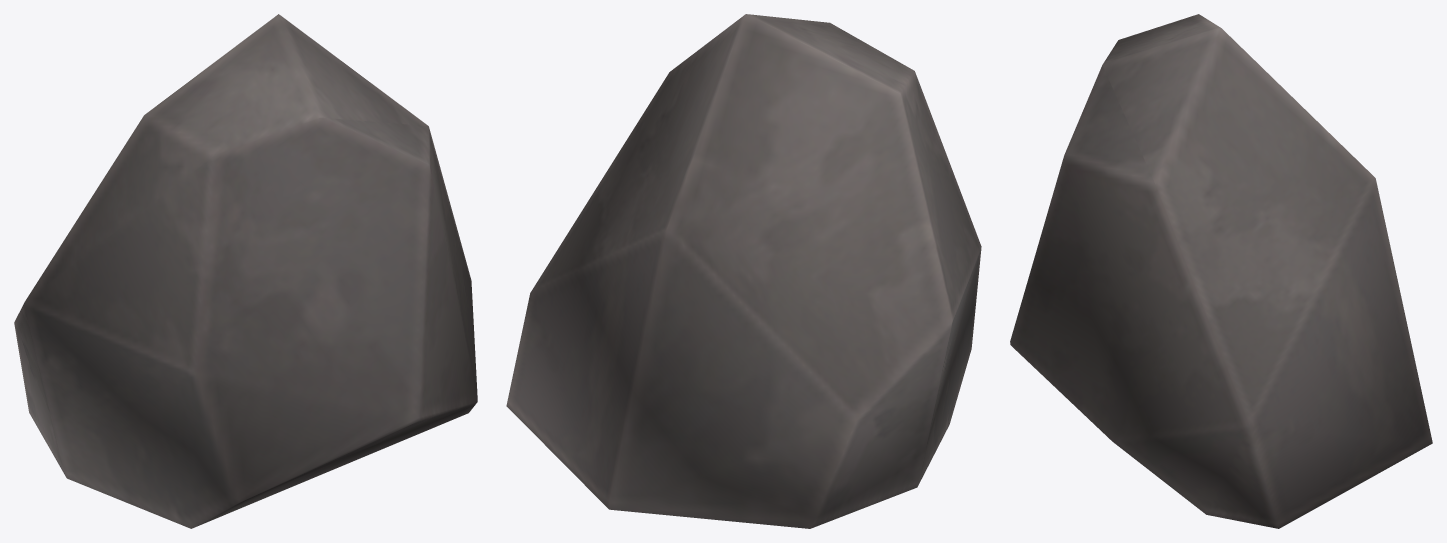
The model's file is obj_stone01.gltf.
The picture shows the model from 3 angles, left to right: view 1: azimuth 30°, elevation 25°; view 2: azimuth 150°, elevation 25°; view 3: azimuth 270°, elevation 25°; orthographic projection. The views are drawn at different scales.
Visible parts, largest first — view 1: obj_stone01; view 2: obj_stone01; view 3: obj_stone01.
Boxes of the visible parts, x1=… form: obj_stone01: x1=14, y1=14, x2=477, y2=528; obj_stone01: x1=506, y1=14, x2=981, y2=528; obj_stone01: x1=1010, y1=14, x2=1432, y2=528.
Size of what is drawn, in the model's own units: 1.47 by 1.37 by 1.3.
1 material, 1 textured.
